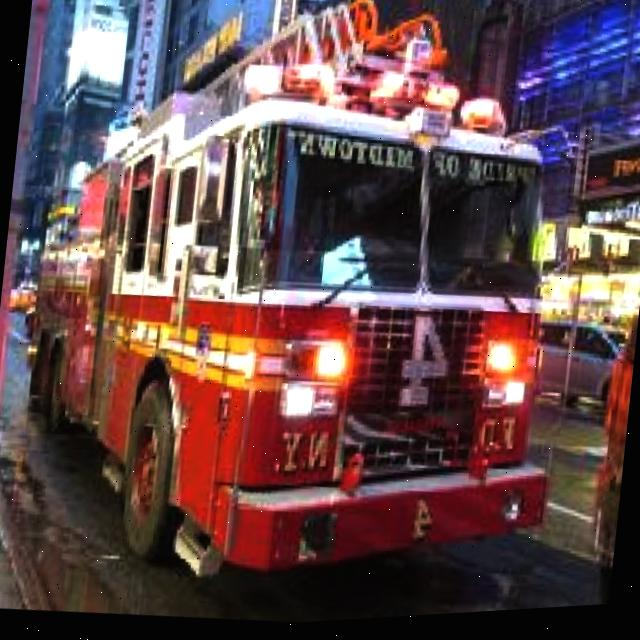emergency: (2, 0, 601, 624)
